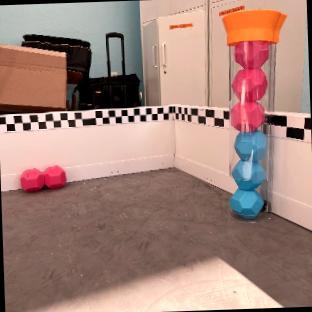V5_BLUE: (229, 132, 266, 218)
V5_RED: (231, 40, 269, 131), (231, 92, 264, 131), (20, 165, 66, 191), (234, 40, 269, 67)
